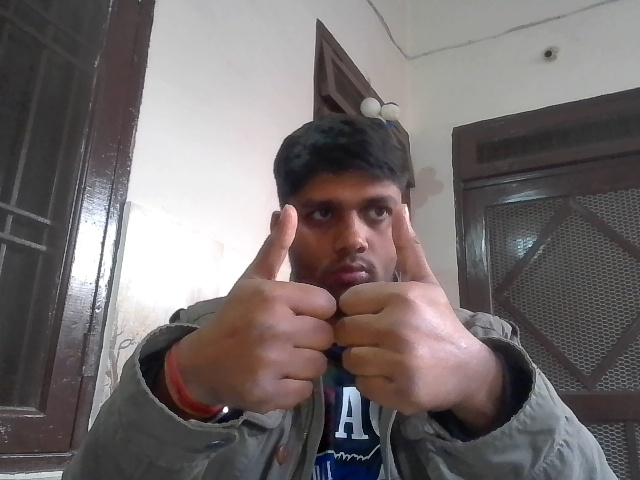Excellent: (206, 200, 477, 420)
